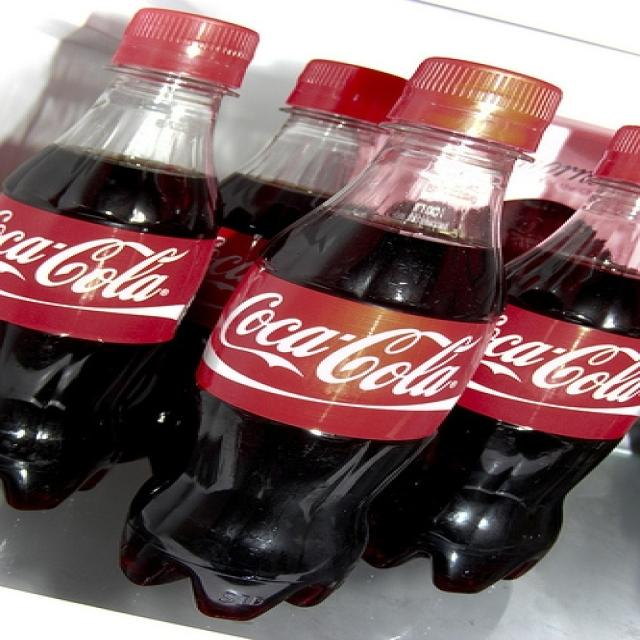cocacola: (211, 287, 488, 411), (3, 207, 193, 312), (470, 315, 639, 415)
